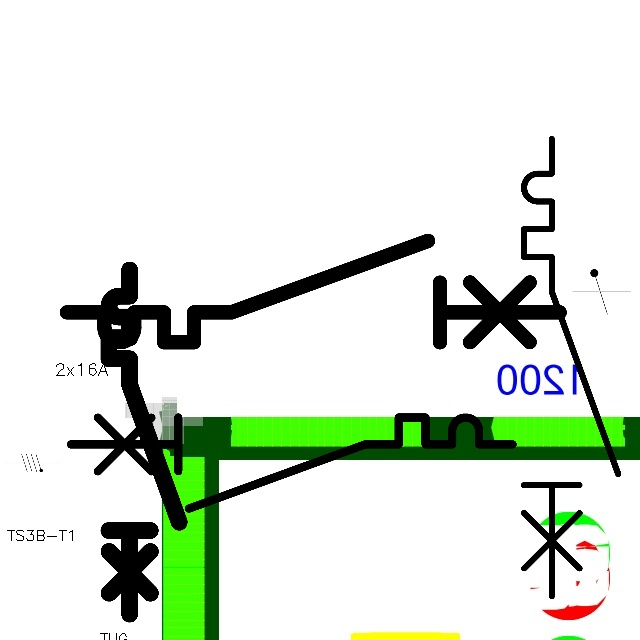interruptor_termomagnetico: (54, 228, 572, 355), (512, 127, 629, 608), (59, 406, 524, 520), (100, 261, 188, 623)
